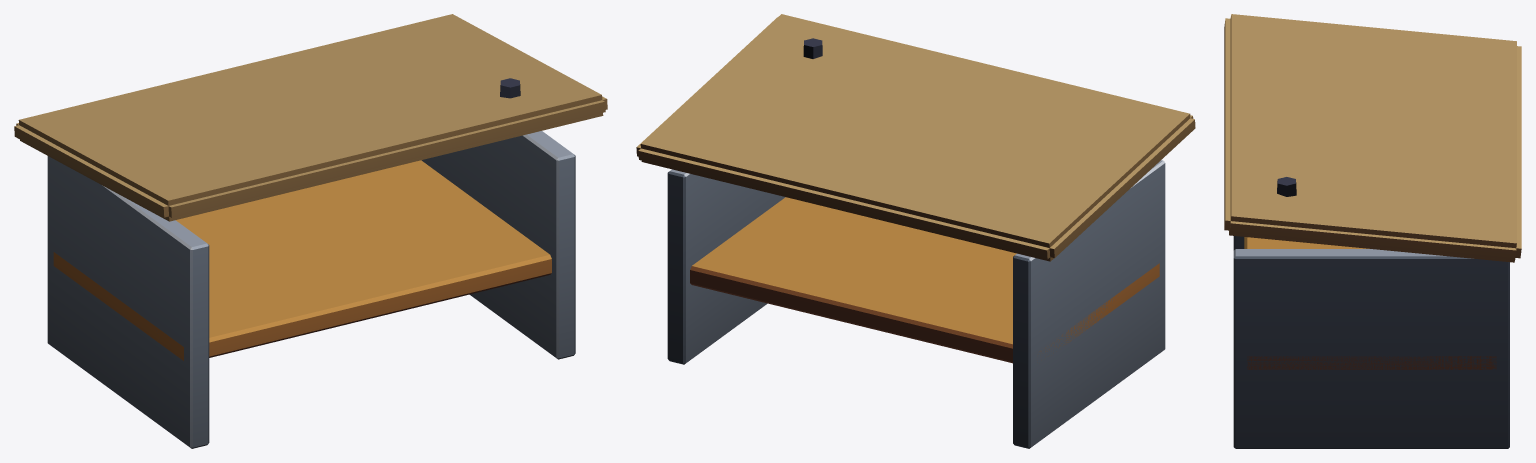
The model's file is school_desk.glb.
3 renders of one model, left to right at view 1: azimuth 30°, elevation 25°; view 2: azimuth 150°, elevation 25°; view 3: azimuth 270°, elevation 25°, orthographic. The views are drawn at different scales.
Parts seen in each view (by area): view 1: school_desk; view 2: school_desk; view 3: school_desk.
Part boxes in pixels (x1,y1,x2,y2): school_desk: (14, 14, 607, 448); school_desk: (636, 14, 1195, 448); school_desk: (1224, 14, 1521, 448).
Size of the model in its own units: 0.92 by 0.52 by 0.559.
